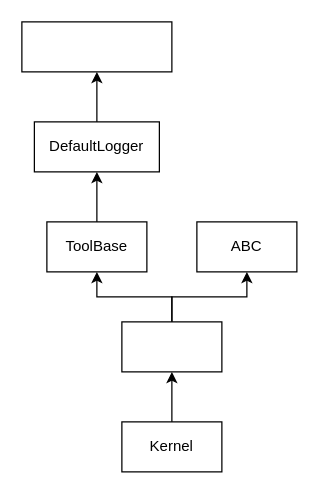
This 319x494 diagram has some shape labels left out. Each missing label, with the box of its shape:
KernelBase: (121, 321, 222, 372)
MetaDefaultLogger: (21, 21, 172, 72)
